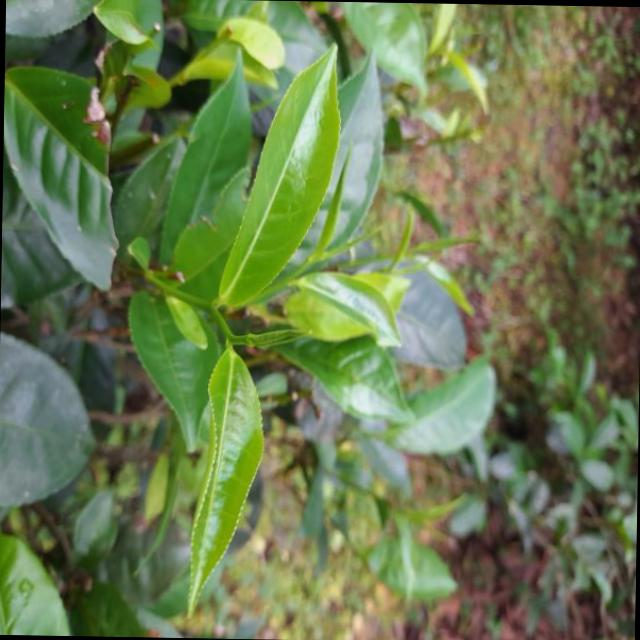Stem: (205, 301, 215, 311), (310, 253, 320, 260)
